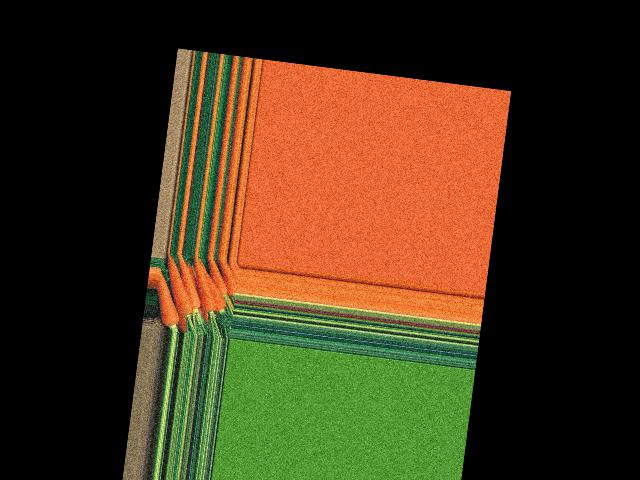carrot: (205, 259, 233, 299)
